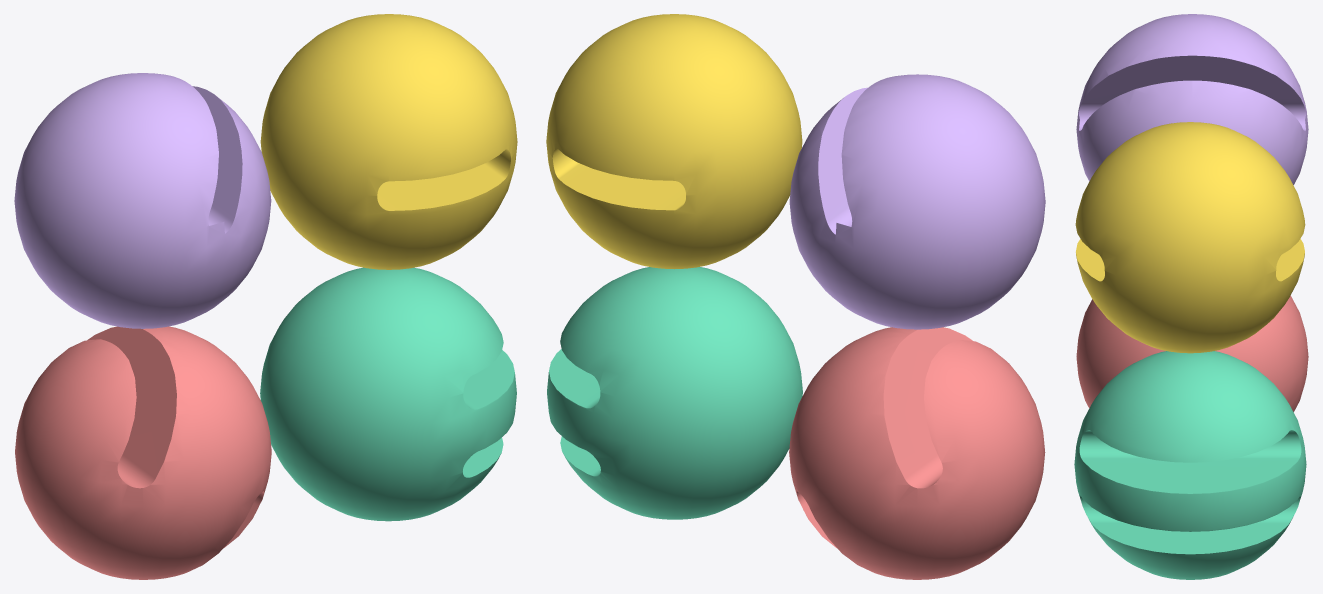
The model's file is 06_NERO.glb.
3 views of the same model, side by side, from view 1: azimuth 30°, elevation 25°; view 2: azimuth 150°, elevation 25°; view 3: azimuth 270°, elevation 25° (orthographic). The views are drawn at different scales.
Visible parts, largest first — view 1: Sphere (×4), Cube.1 (×2), Cube (×3); view 2: Sphere (×4), Cube.1 (×2), Cube (×3); view 3: Sphere (×4), Cube (×3), Cube.1.
Part boxes in pixels (x1,y1,x2,y2): Sphere (×4): (14, 14, 517, 579); Cube.1 (×2): (87, 326, 514, 488); Cube (×3): (192, 86, 510, 477); Sphere (×4): (546, 14, 1045, 579); Cube.1 (×2): (549, 327, 972, 488); Cube (×3): (552, 87, 867, 476); Sphere (×4): (1074, 14, 1308, 579); Cube (×3): (1076, 55, 1306, 554); Cube.1: (1079, 430, 1301, 493).
Bounding box in the file's own units: 2.85 × 2.82 × 1.37.
